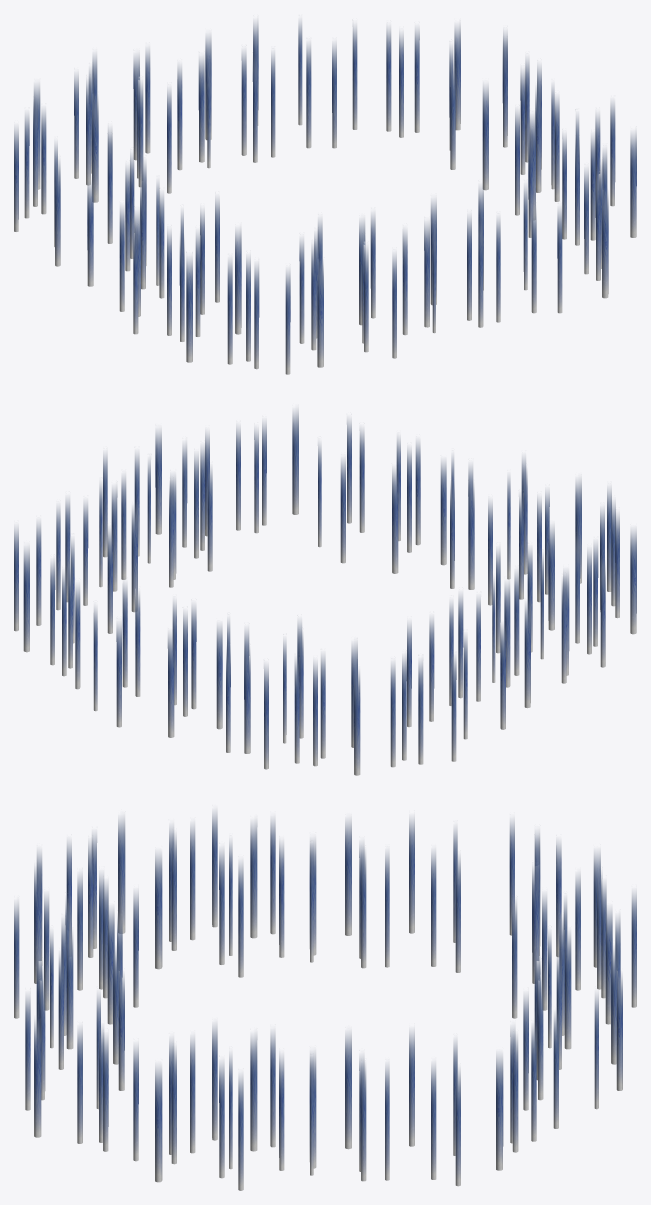
Rendered from bgtrees.glb.
3 renders of one model, top to bottom at view 1: azimuth 30°, elevation 25°; view 2: azimuth 150°, elevation 25°; view 3: azimuth 270°, elevation 25°, orthographic. The views are drawn at different scales.
Visible parts, largest first — view 1: trees.001; view 2: trees.001; view 3: trees.001.
Boxes of the visible parts, x1=… form: trees.001: x1=14, y1=20, x2=636, y2=374; trees.001: x1=14, y1=409, x2=636, y2=775; trees.001: x1=14, y1=810, x2=636, y2=1190.
Bounding box in the file's own units: 116 × 24.68 × 115.
1 material, 1 textured.
